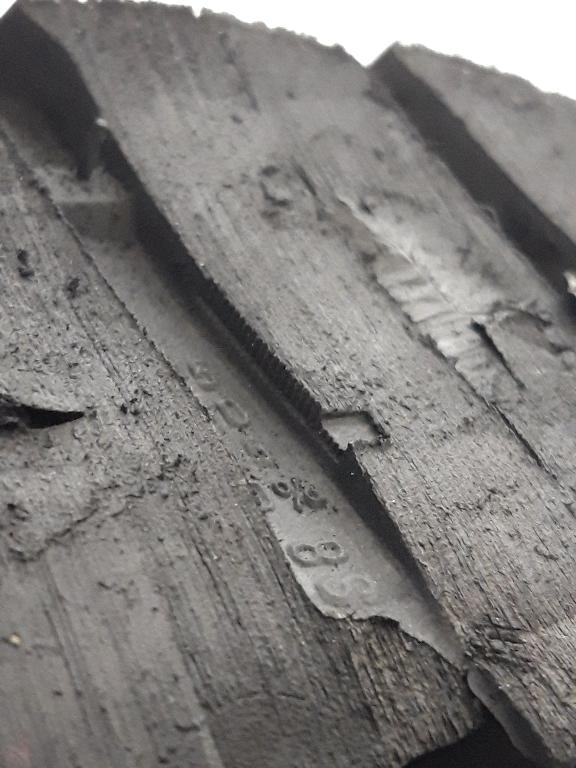temoin:25: (278, 354, 398, 474)
